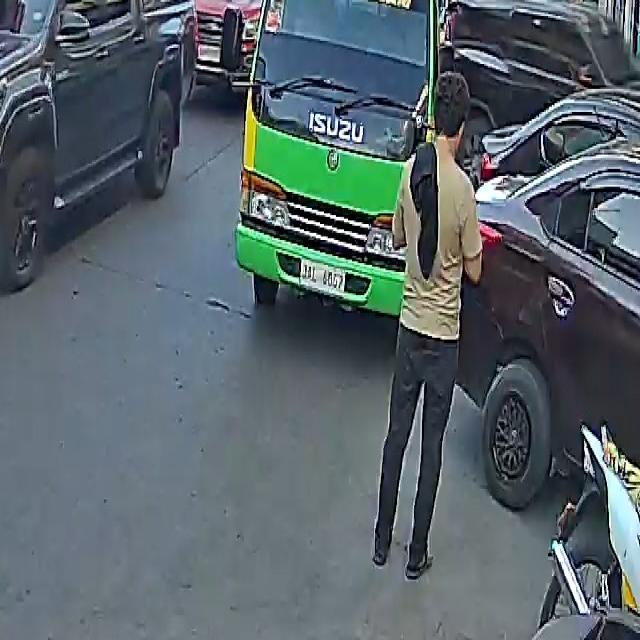car: (461, 96, 640, 519), (0, 0, 190, 292), (444, 0, 640, 164), (188, 0, 286, 89)
